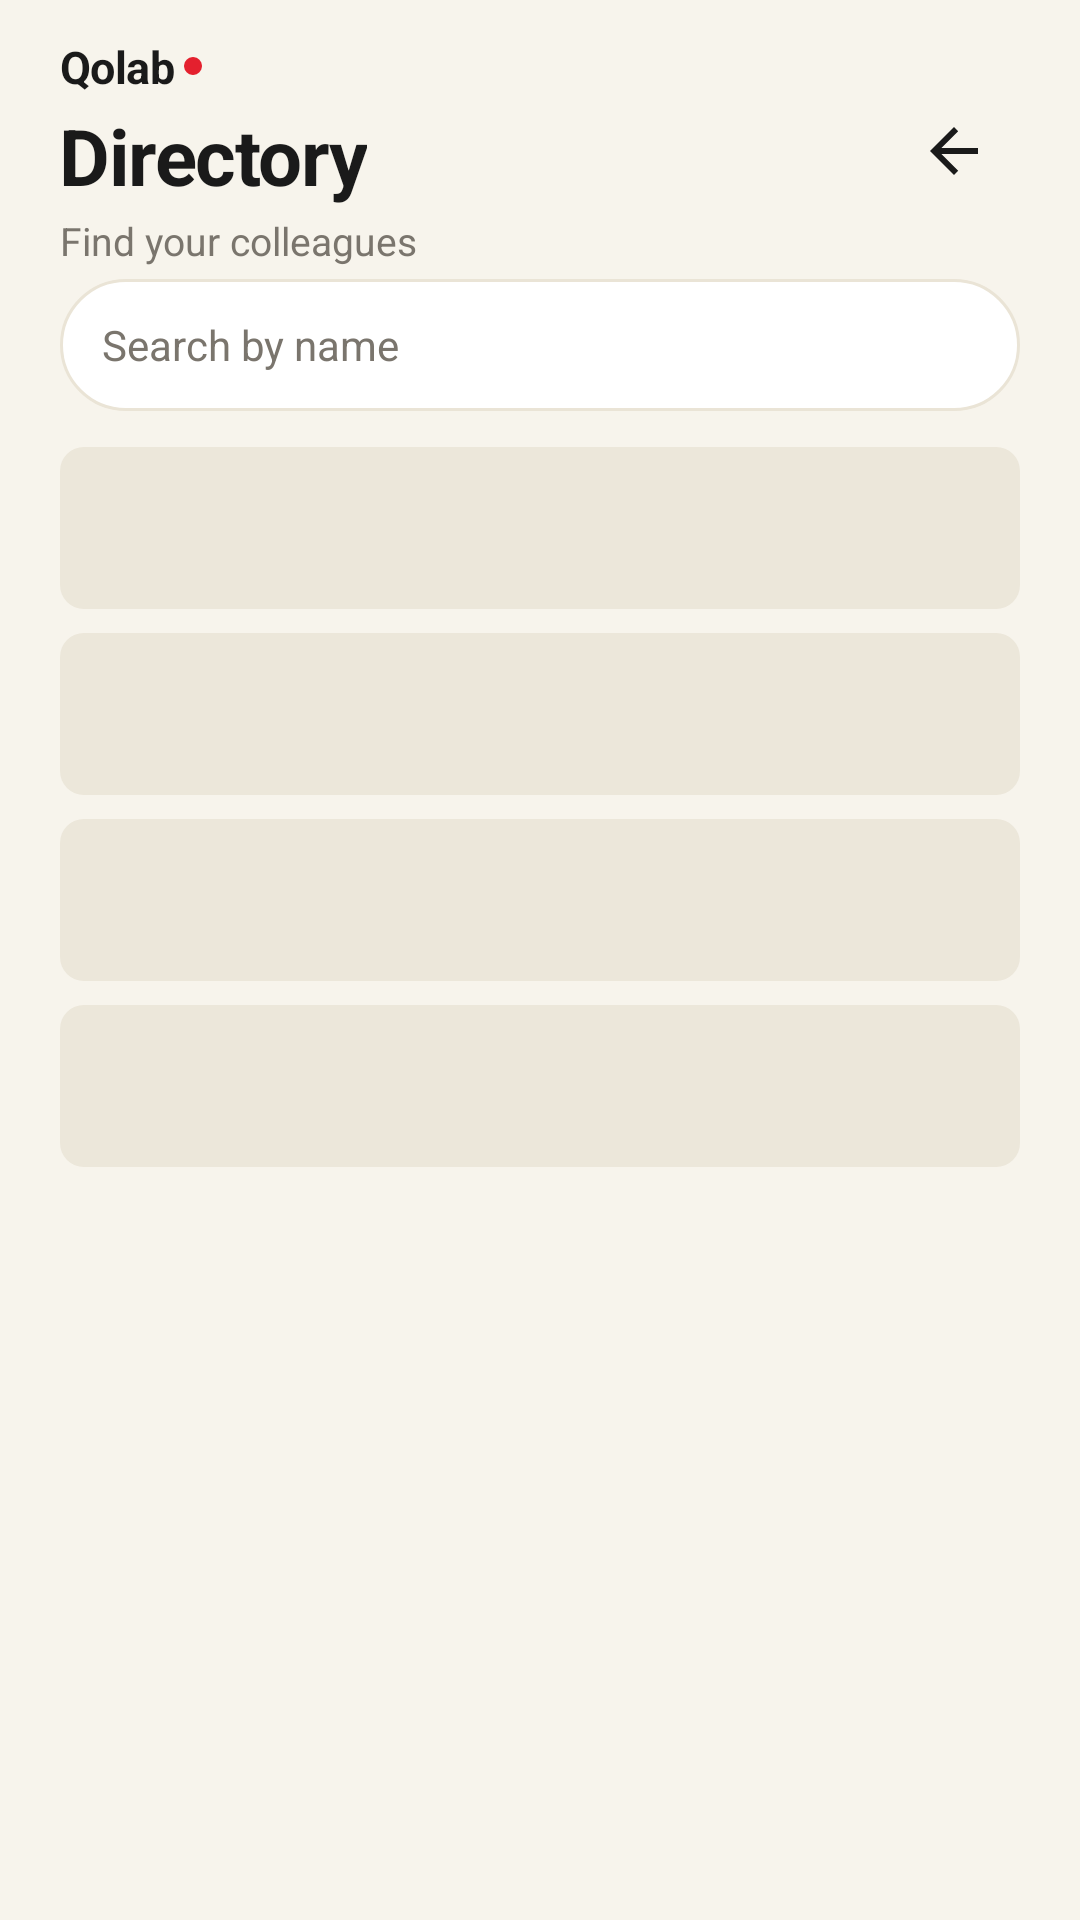

Icons on this 1080*1920 Android screen, each with its box as (x1, y1, x2, y2):
Back: (930, 127, 978, 175)
